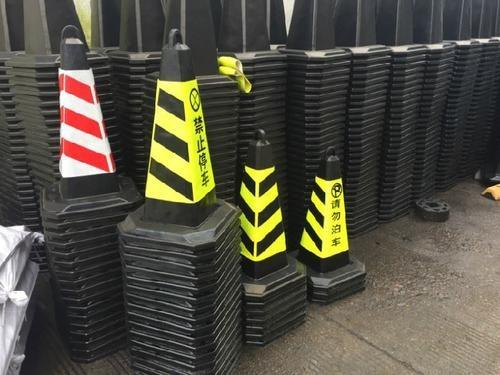cone_barrel: (134, 25, 219, 230), (47, 27, 127, 204), (231, 126, 295, 281), (294, 147, 356, 275)
